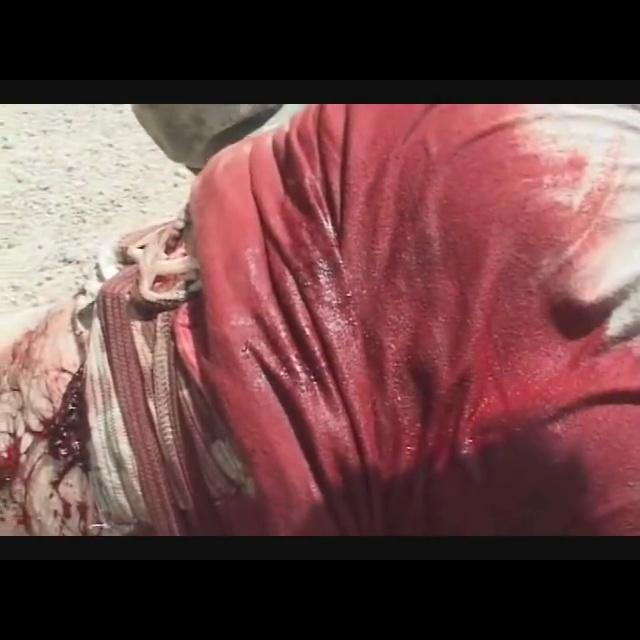blood: (174, 105, 640, 536), (0, 377, 98, 536)
